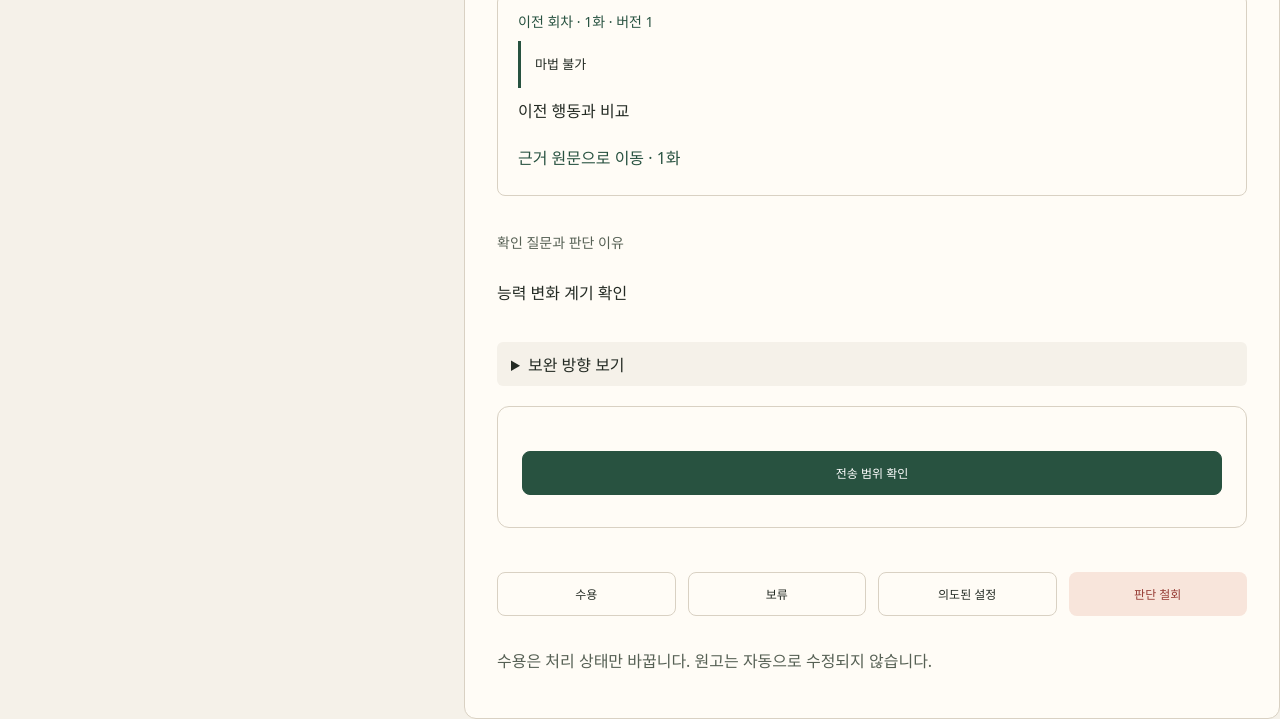
Scenario: 첫 후보의 보완 문장을 적용하면 두 번째 후보의 제안 생성은 막히고 근거 열람과 재검토는 유지된다
(page scrolled)
What coordinates should you click on to do the following:
click the button "전송 범위 확인"
I would click on:
 (872, 473)
Its box is [522,451,1222,495].
(page scrolled)
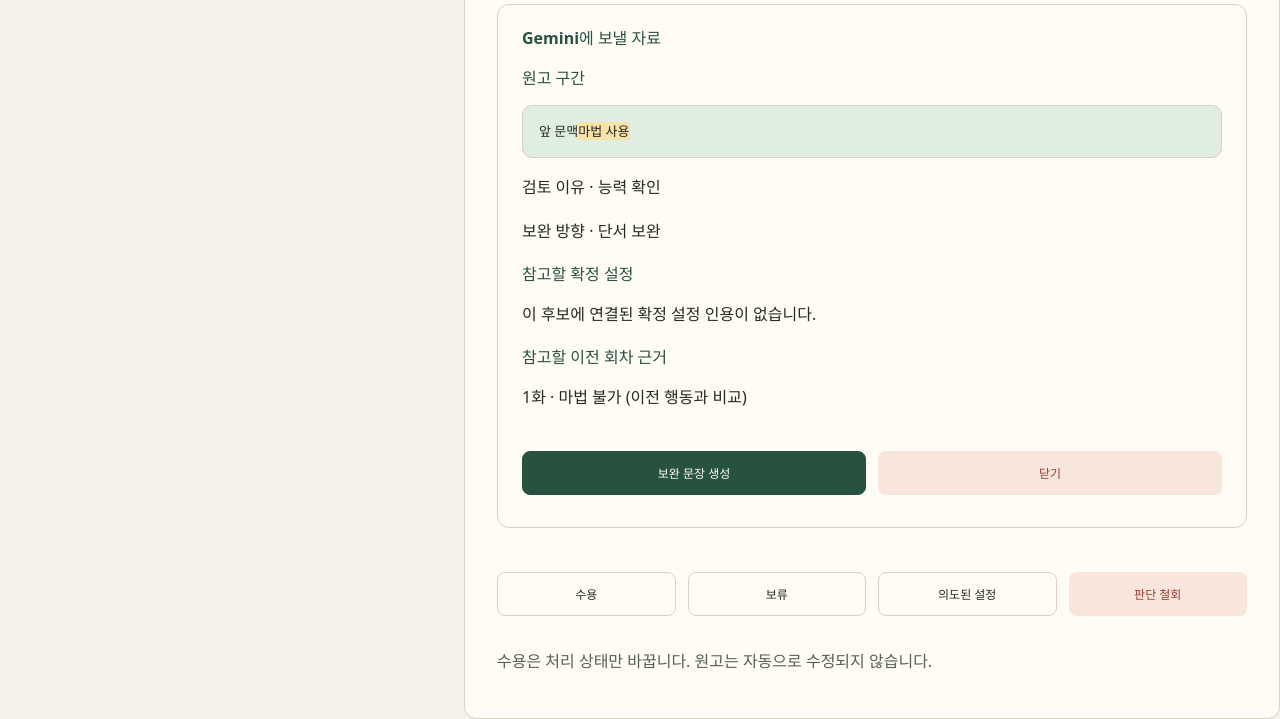
Expected: the text "앞 문맥" is shown, [539,122,578,140]
Expected: the text "1화 · 마법 불가 (이전 행동과 비교)" is shown, [522,386,747,408]
What coordinates should you click on to do the following:
click the button "보완 문장 생성"
I would click on:
 (694, 473)
Its box is [522,451,866,495].
(page scrolled)
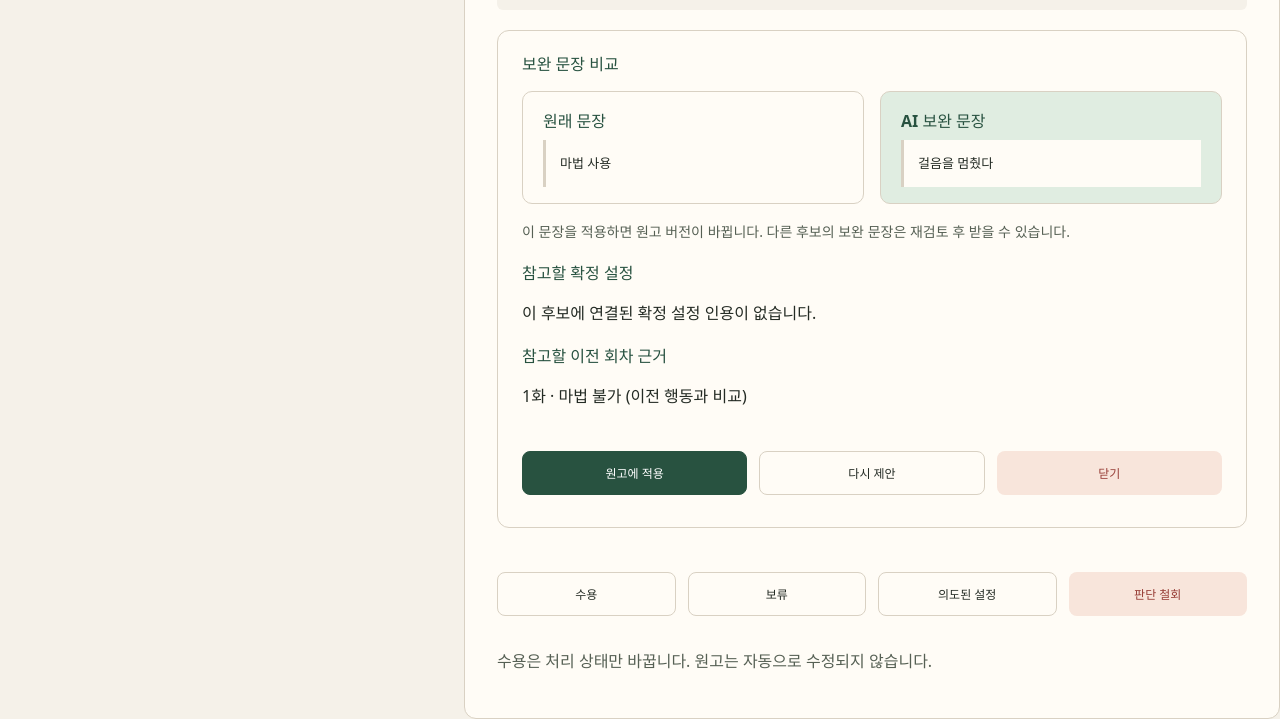
Expected: the text "이 문장을 적용하면 원고 버전이 바뀝니다. 다른 후보의 보완 문장은 재검토 후 받을 수 있습니다." is shown, [522,222,1070,242]
What coordinates should you click on to do the following:
click the button "원고에 적용"
I would click on:
 (635, 473)
Its box is [522,451,747,495].
(page scrolled)
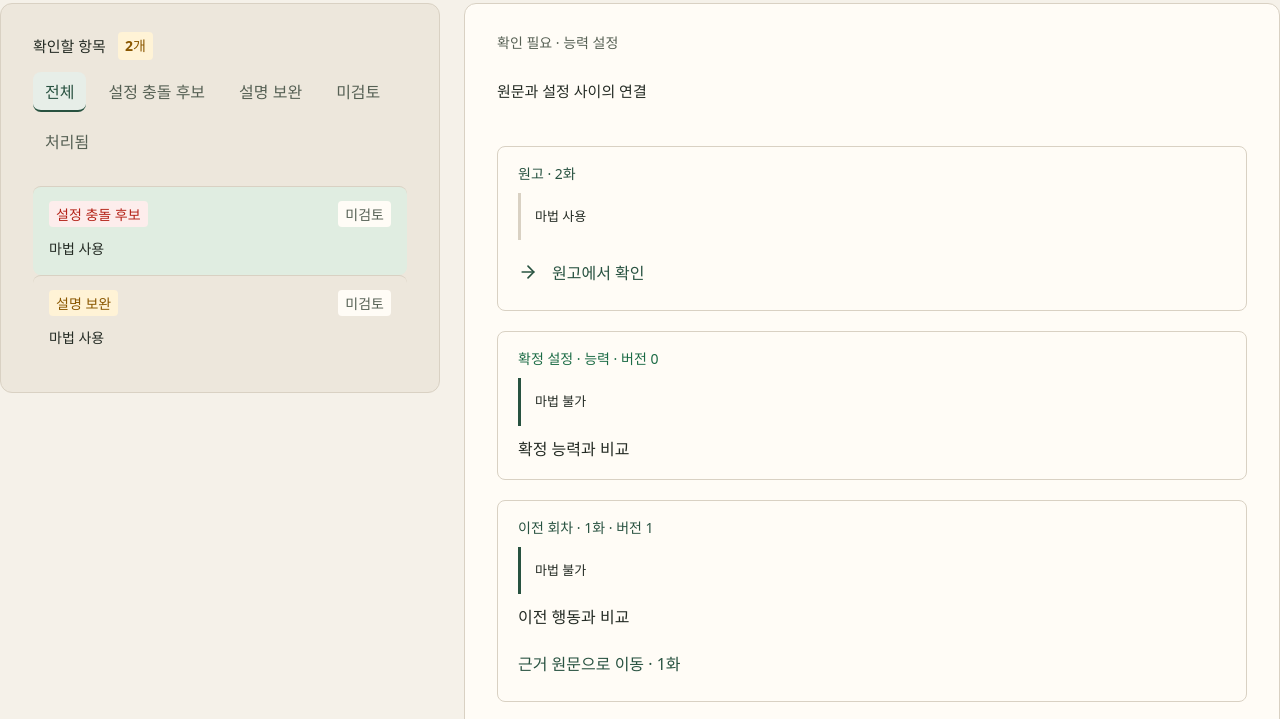
What coordinates should you click on to do the following:
click the button "설명 보완 미검토 마법 사용"
I would click on:
 (84, 303)
Its box is [33,275,407,364].
(page scrolled)
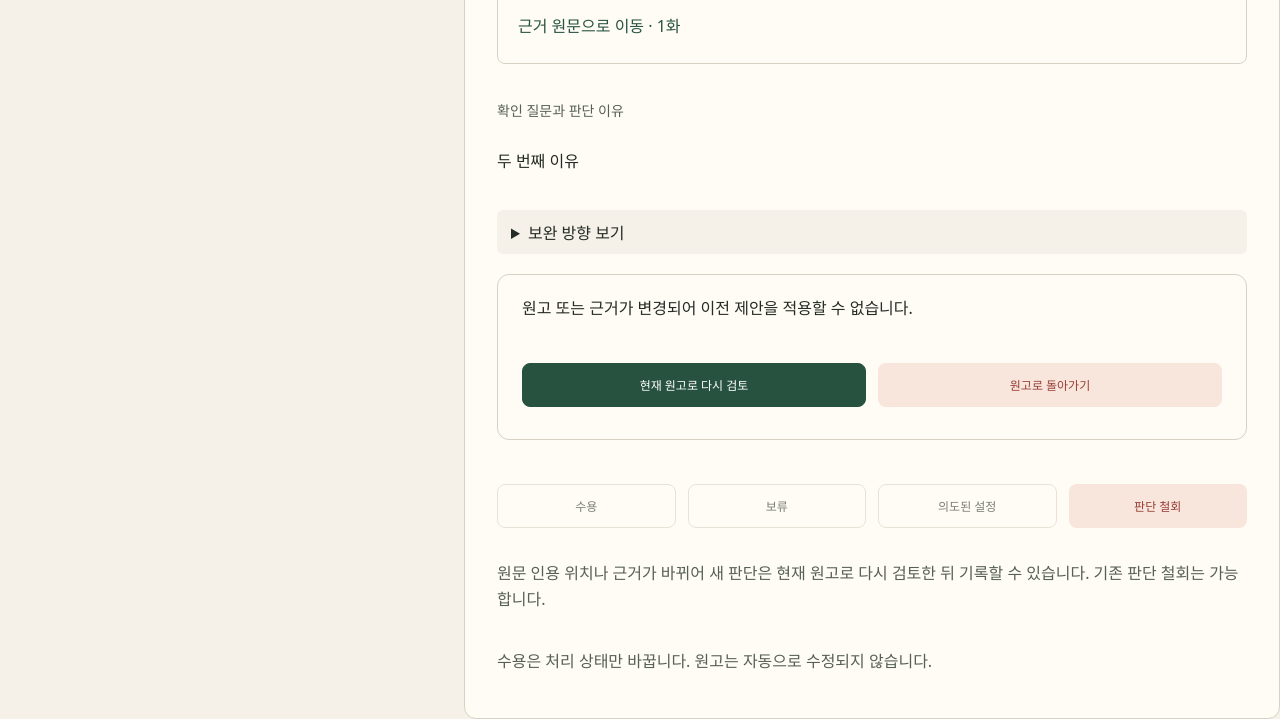
Expected: the text "두 번째 이유" is shown, [497,150,579,172]
Expected: the text "원고 또는 근거가 변경되어 이전 제안을 적용할 수 없습니다." is shown, [522,298,913,320]
Expected: the button "현재 원고로 다시 검토" is shown, [522,363,866,407]
